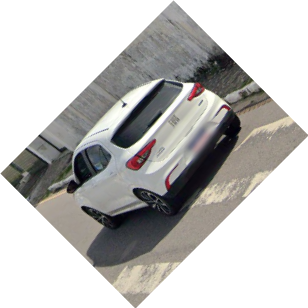car: (68, 77, 240, 227)
